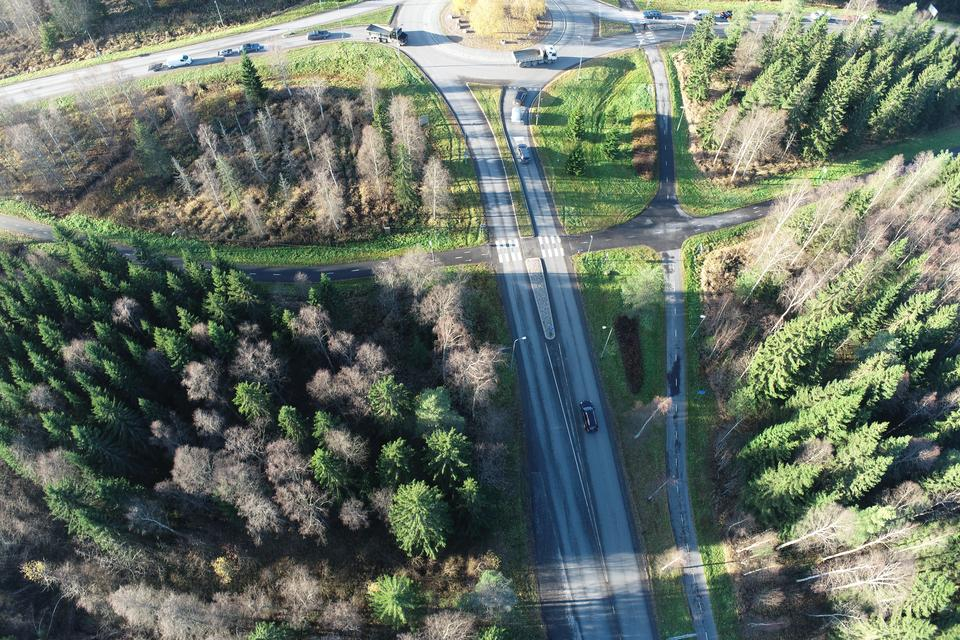intersection: (465, 220, 592, 282), (615, 0, 682, 77)
roundabout: (298, 0, 604, 123)
